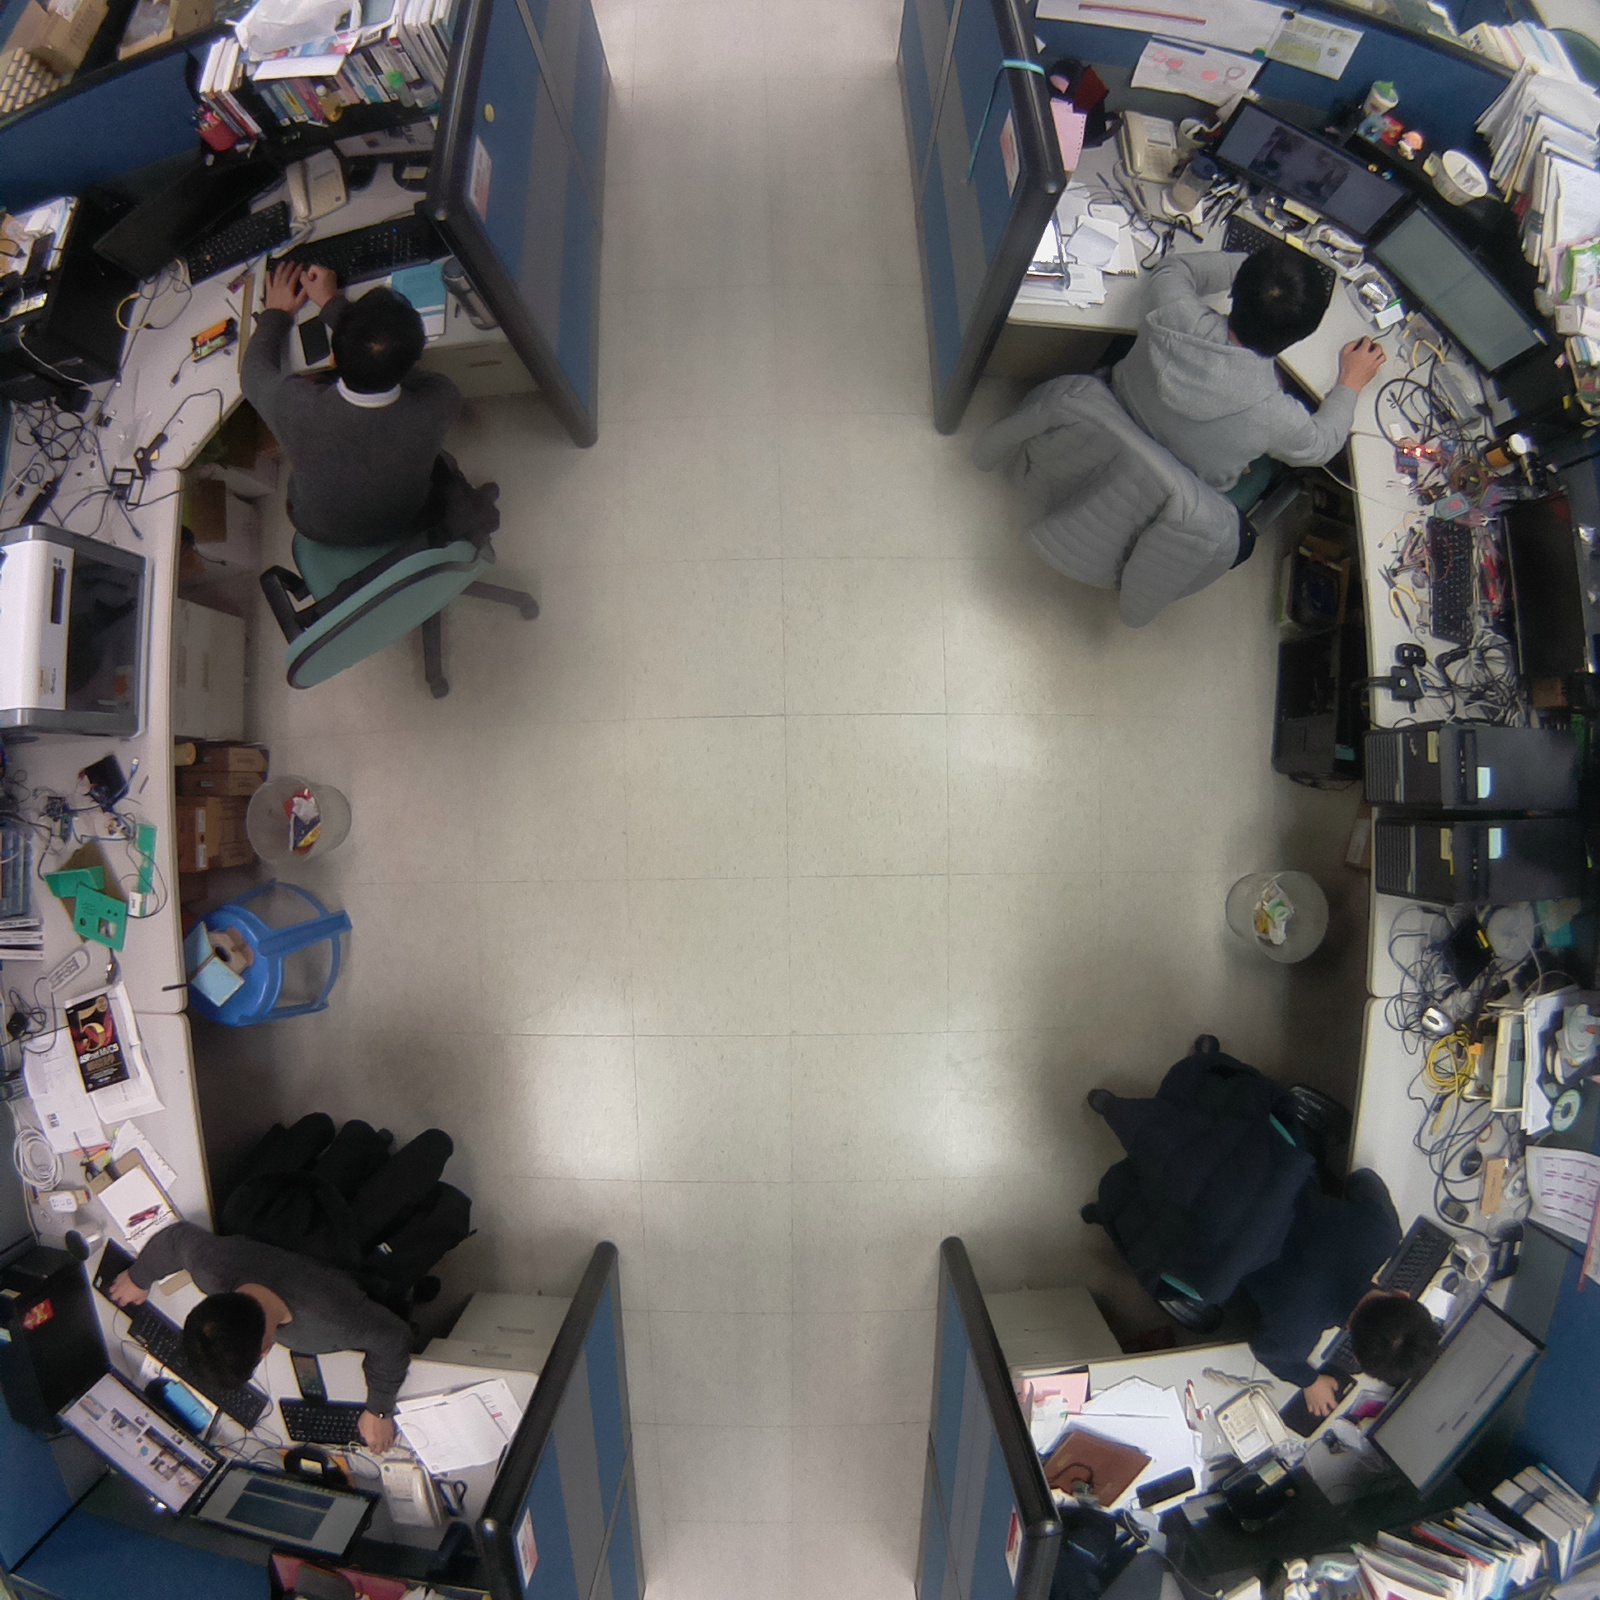head: (1221, 234, 1342, 361), (327, 274, 432, 400), (1342, 1274, 1451, 1395), (174, 1287, 276, 1391)
sitting: (953, 240, 1387, 645), (1063, 1014, 1448, 1423), (242, 283, 558, 727), (162, 1088, 488, 1409)
